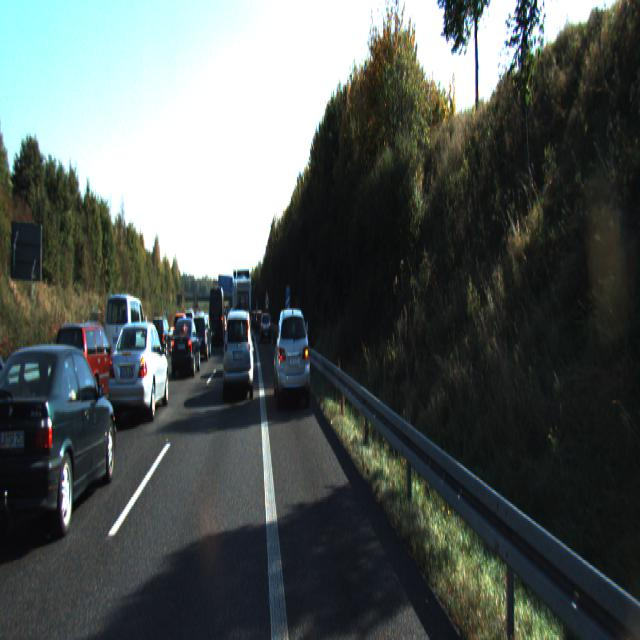Car: (0, 336, 120, 558), (106, 318, 170, 428), (50, 319, 120, 418), (104, 291, 150, 381), (274, 304, 311, 408), (224, 307, 254, 401), (171, 315, 201, 378), (232, 274, 251, 347), (190, 312, 212, 360), (148, 316, 172, 360), (210, 284, 226, 346), (260, 312, 272, 343)
